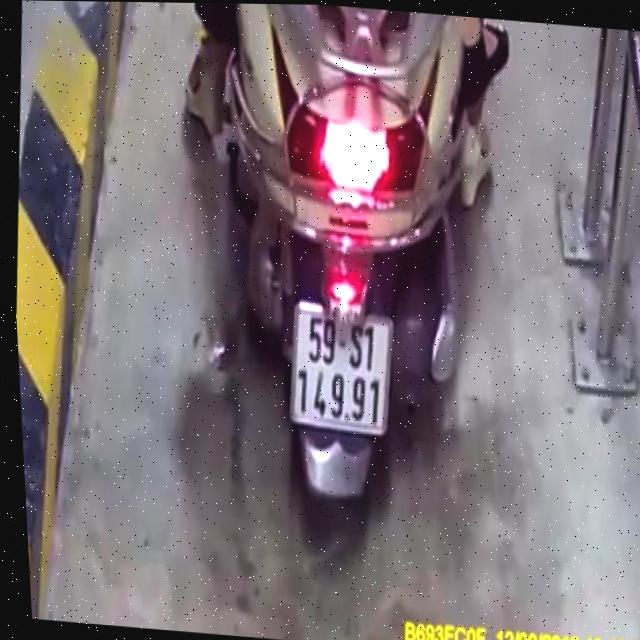motorcycle: (176, 3, 517, 550)
plate: (280, 300, 403, 442)
